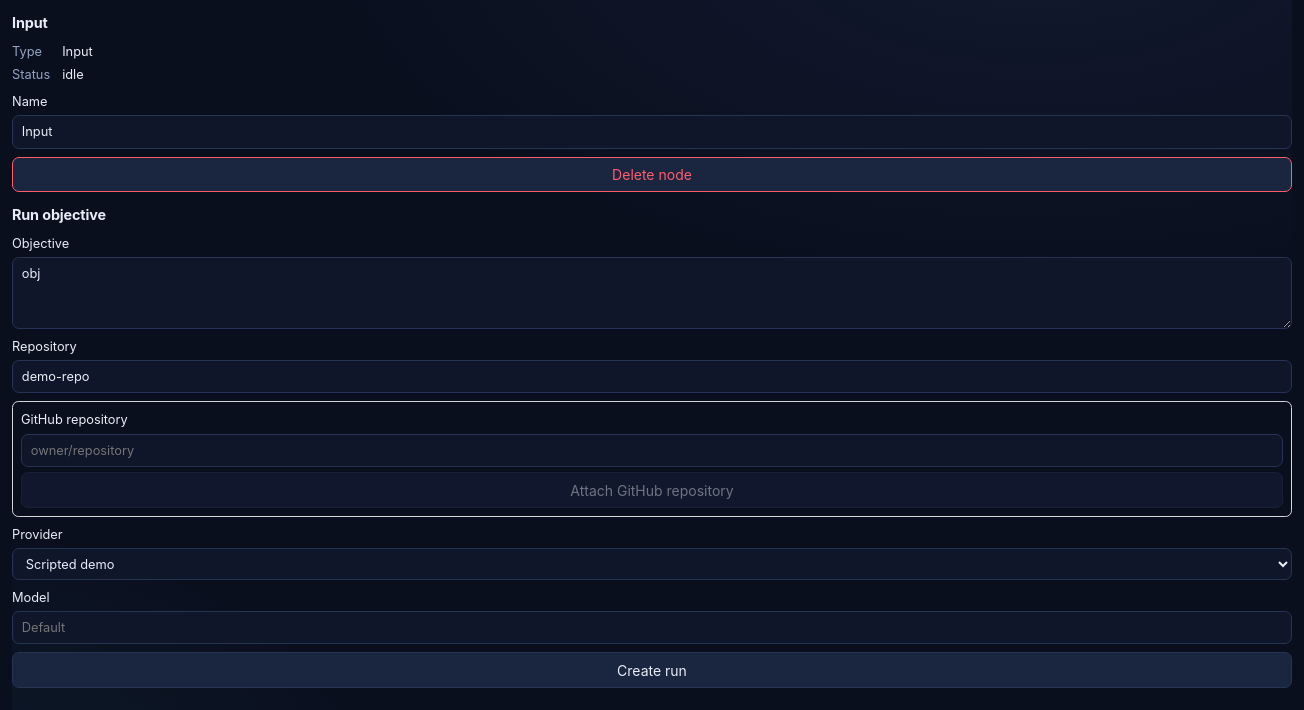
Test: InspectorPanel › surfaces an api error message
The width and height of the screenshot is (1304, 710).
What coordinates should you click on to do the following:
click the button "Create run"
I would click on:
 (652, 670)
Its box is [12, 652, 1292, 688].
(page scrolled)
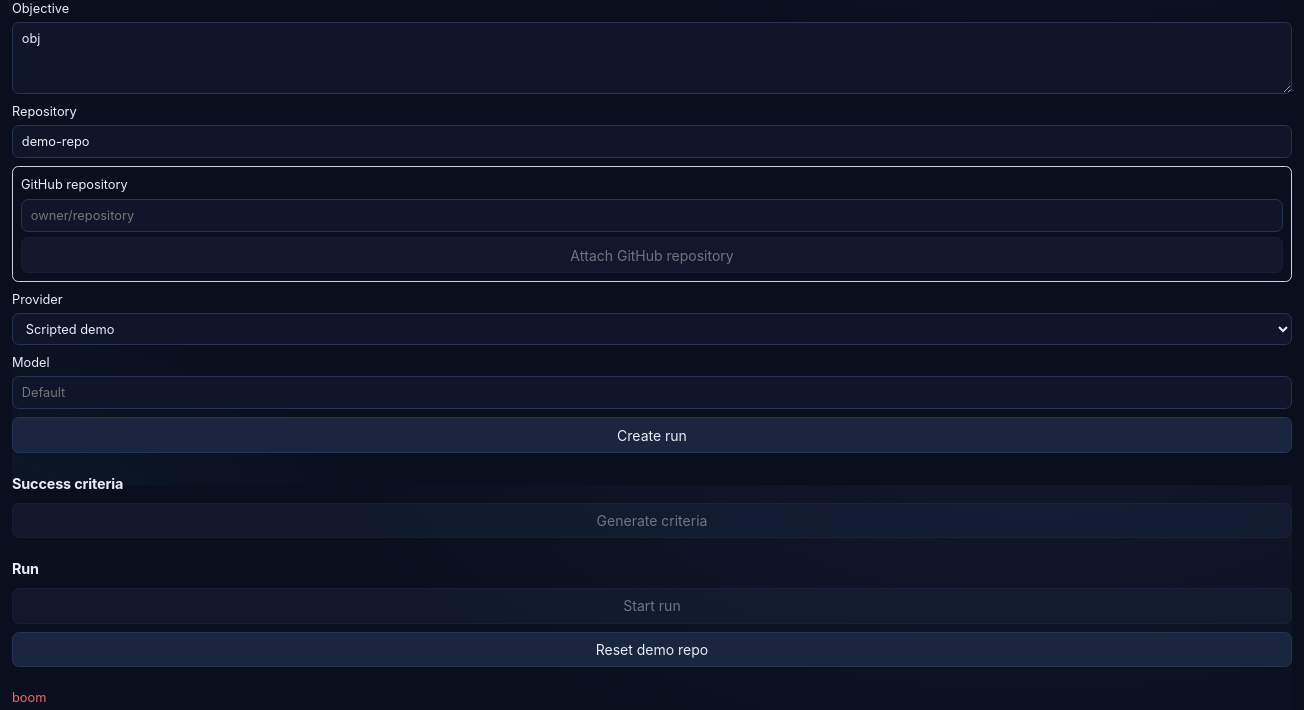
Expected: the message with test id "inspector-error" reads "boom", [12, 690, 46, 705]
